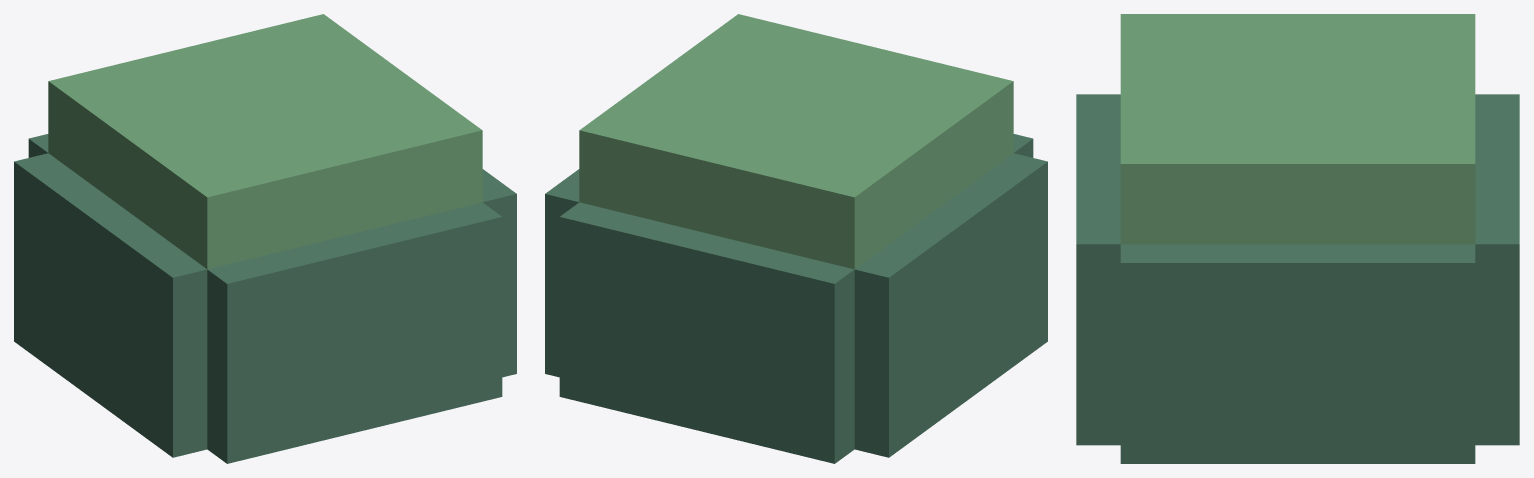
File: buisson.glb
3 renders of one model, left to right at view 1: azimuth 30°, elevation 25°; view 2: azimuth 150°, elevation 25°; view 3: azimuth 270°, elevation 25°, orthographic. The views are drawn at different scales.
Visible parts, largest first — view 1: main; view 2: main; view 3: main.
Part boxes in pixels (left/top/right/bottom): main: left=14, top=14, right=516, bottom=463; main: left=545, top=14, right=1047, bottom=463; main: left=1076, top=14, right=1519, bottom=463.
Size of the model in its own units: 1.25 by 0.875 by 1.25.
